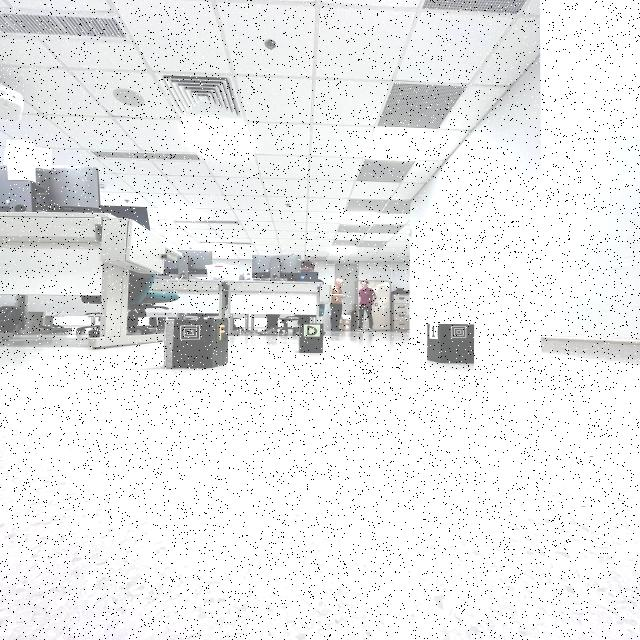D_id23: (304, 324, 321, 337)
F_id25: (217, 323, 227, 343)
bullseye-id10: (177, 323, 204, 342), (448, 324, 468, 340)
one_id11: (429, 324, 439, 339)
